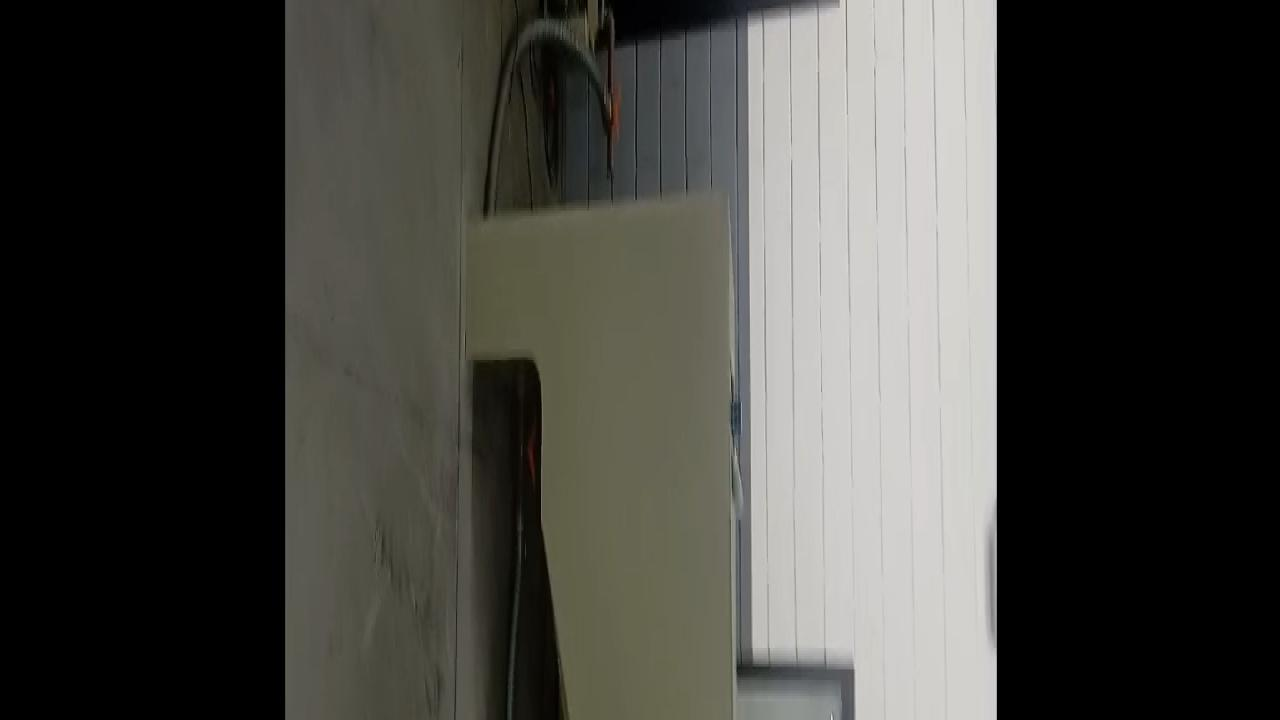Cube: (730, 397, 739, 450)
